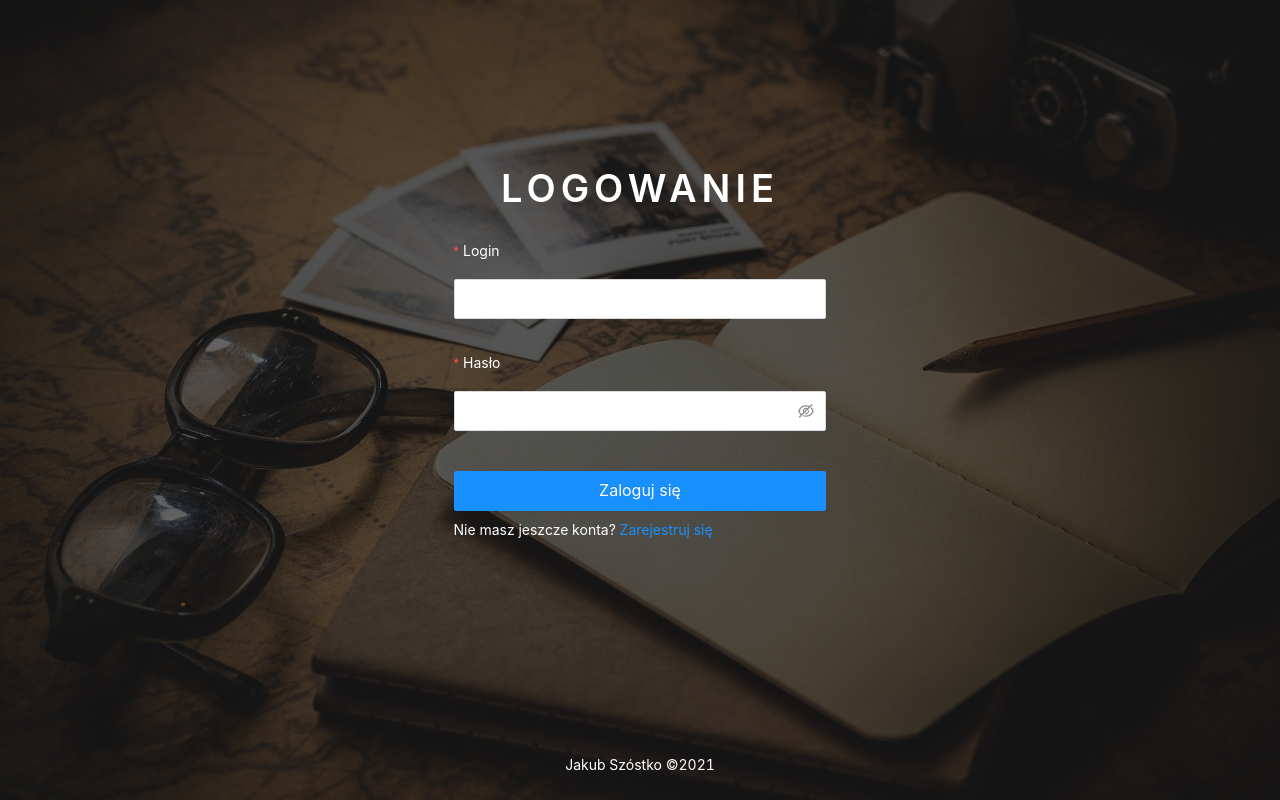
Test: <App /> › renders register view after clicking register button
Click the link "Zarejestruj się": (666, 530) [620,521,713,538]
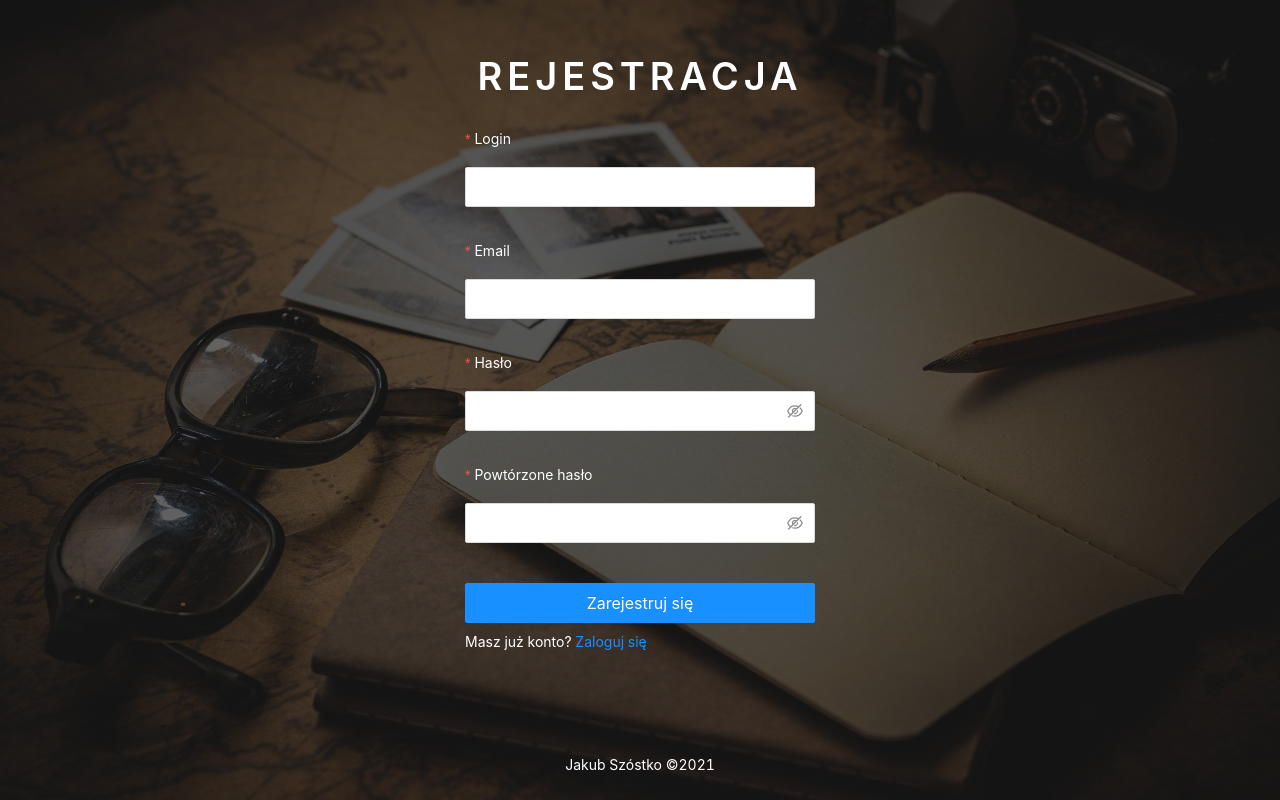
Now the heading "Logowanie" is gone
Now the heading "Rejestracja" is shown, box [477,53,803,100]
